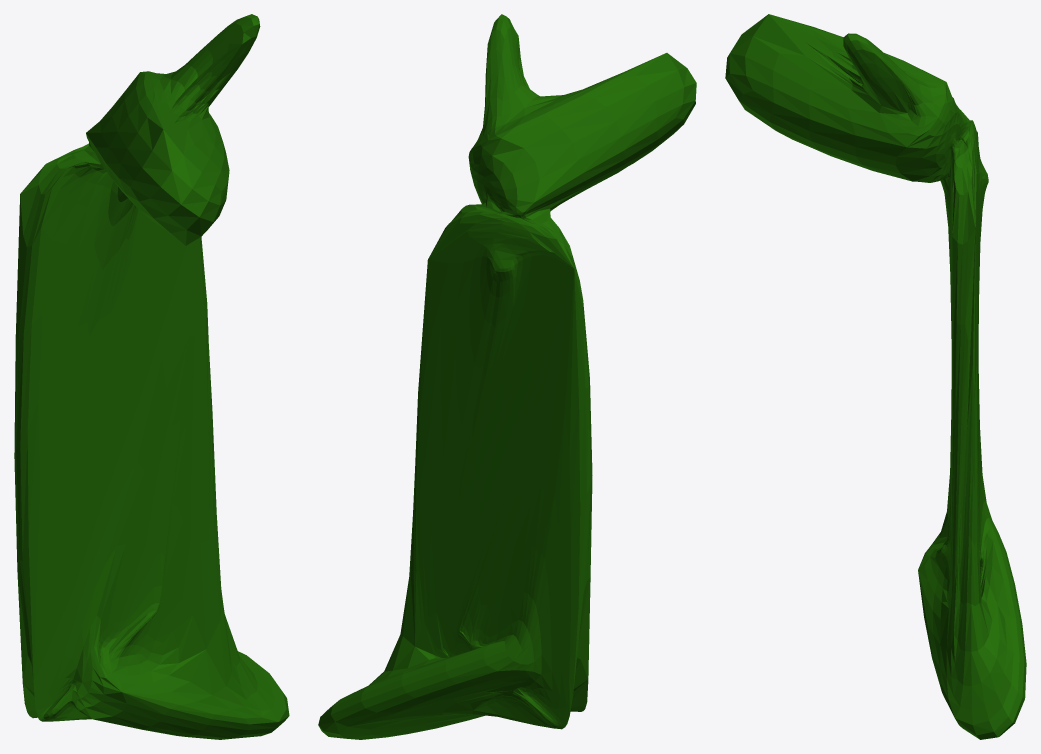
3 renders of one model, left to right at view 1: azimuth 30°, elevation 25°; view 2: azimuth 150°, elevation 25°; view 3: azimuth 270°, elevation 25°, orthographic. The views are drawn at different scales.
Parts seen in each view (by area): view 1: 155_Cube.646; view 2: 155_Cube.646; view 3: 155_Cube.646.
Boxes of the visible parts, x1,y1,x2,y2 form: 155_Cube.646: (14, 14, 289, 739); 155_Cube.646: (318, 14, 696, 739); 155_Cube.646: (725, 14, 1026, 739).
Bounding box in the file's own units: 6.32 × 16.59 × 6.83.
